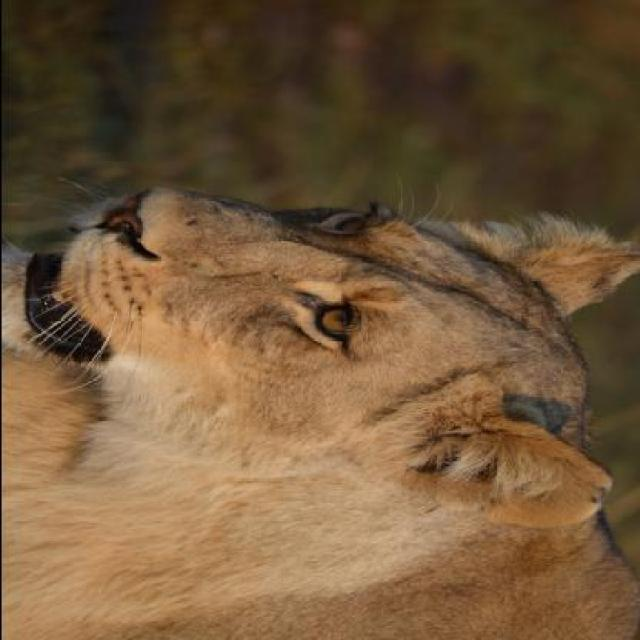Lion: (1, 147, 632, 638)
